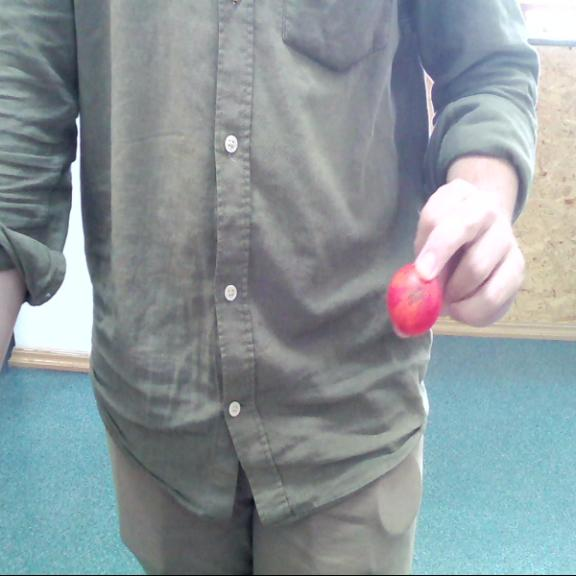ball: (387, 264, 443, 336)
